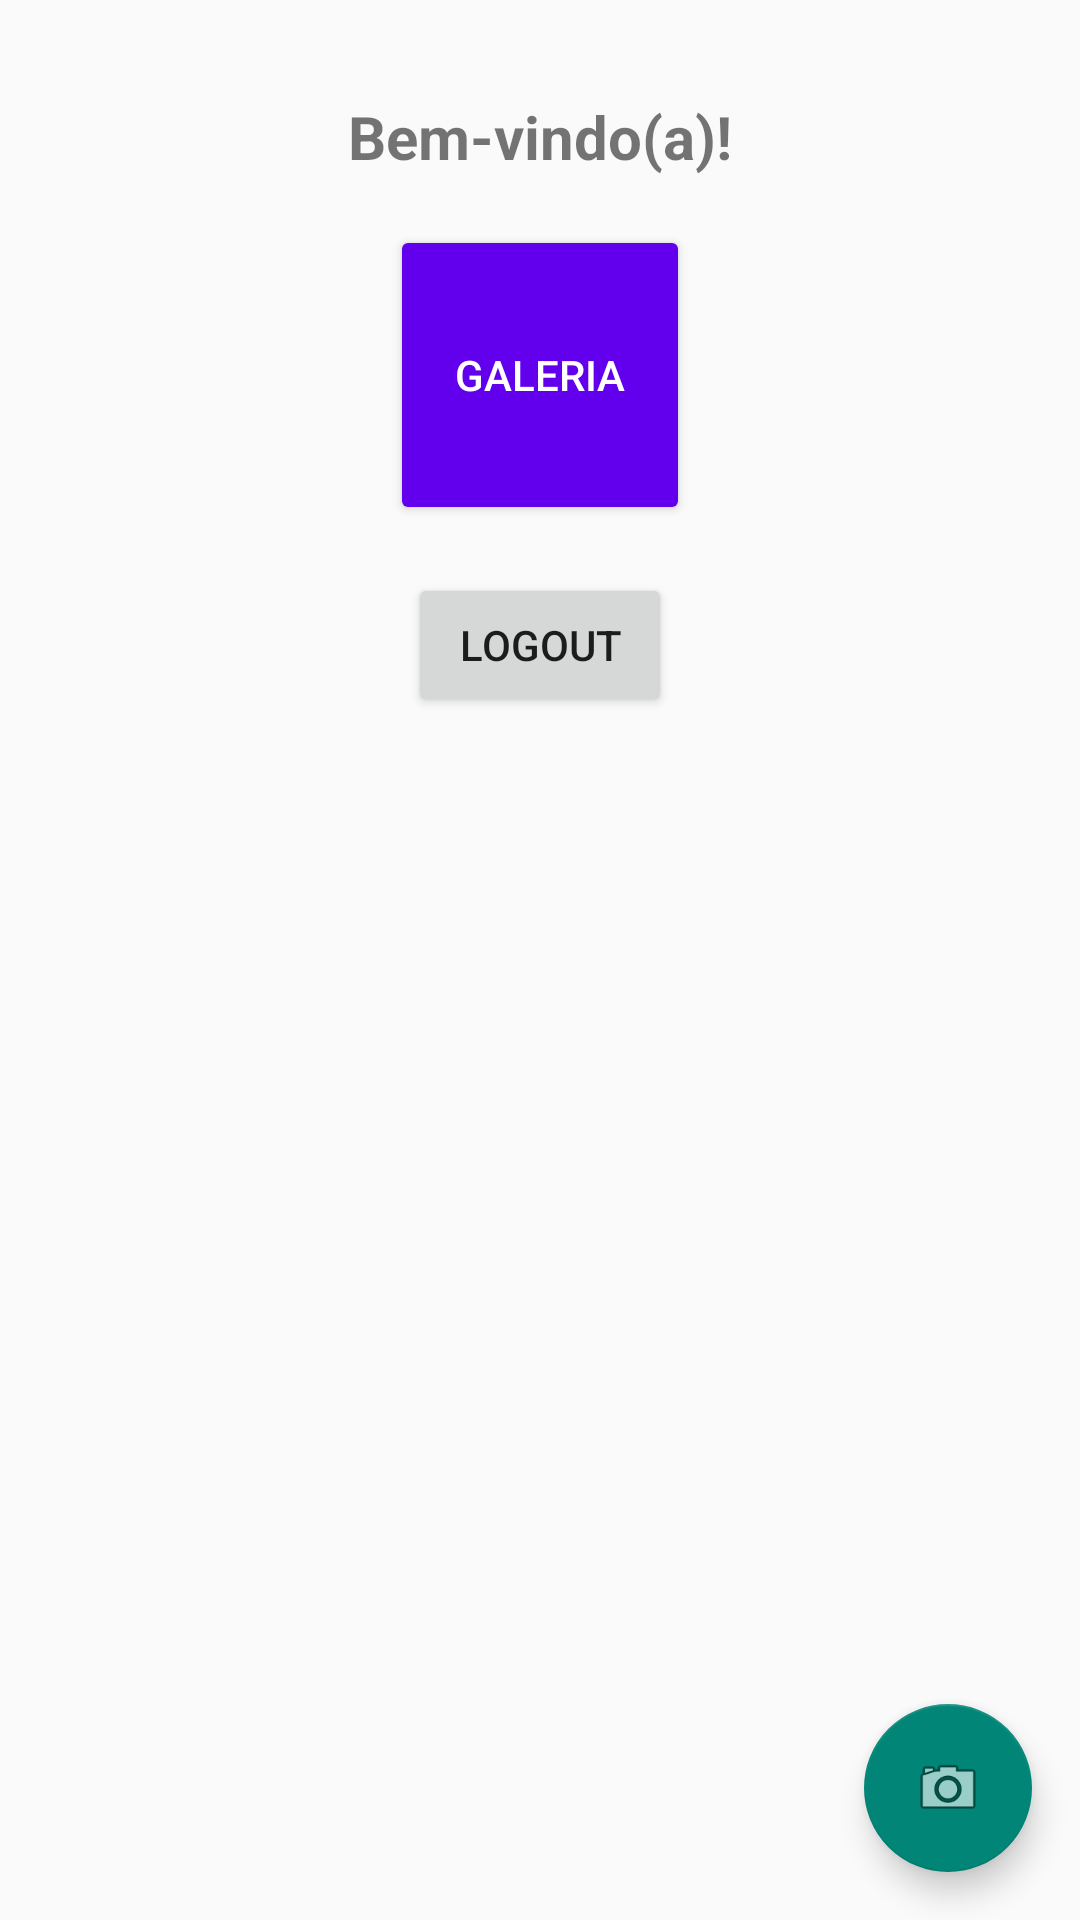

Locate icon controls on the screen. Image size 1080w x 1920h, boxes as (left=x1, top=y1, right=x2, bottom=y2).
Botão da câmera: (left=864, top=1704, right=1032, bottom=1872)
